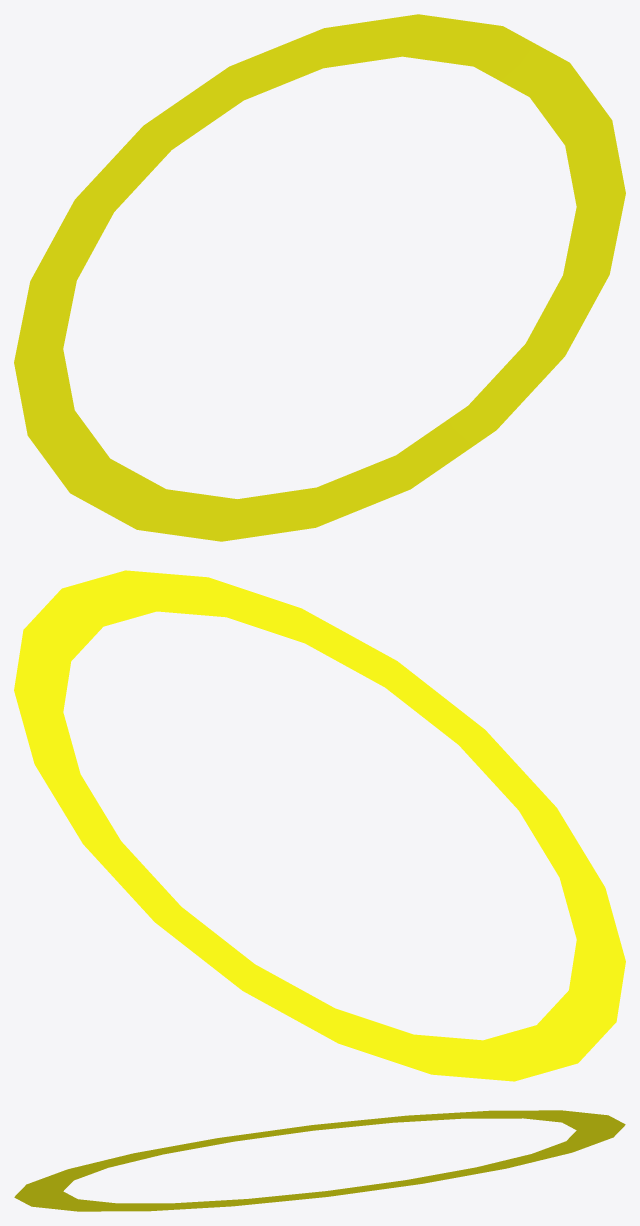
Rendered from RadialPulse.fbx.
3 renders of one model, top to bottom at view 1: azimuth 30°, elevation 25°; view 2: azimuth 150°, elevation 25°; view 3: azimuth 270°, elevation 25°, orthographic. The views are drawn at different scales.
Parts seen in each view (by area): view 1: CircleGeo; view 2: CircleGeo; view 3: CircleGeo.
Boxes of the visible parts, box(x1,y1,x2,y2) form: CircleGeo: box(14, 14, 625, 541); CircleGeo: box(14, 570, 625, 1081); CircleGeo: box(14, 1110, 625, 1211).
Size of the model in its own units: 12.5 by 7.85 by 14.59.
Materials: 1 (1 with a texture image).
